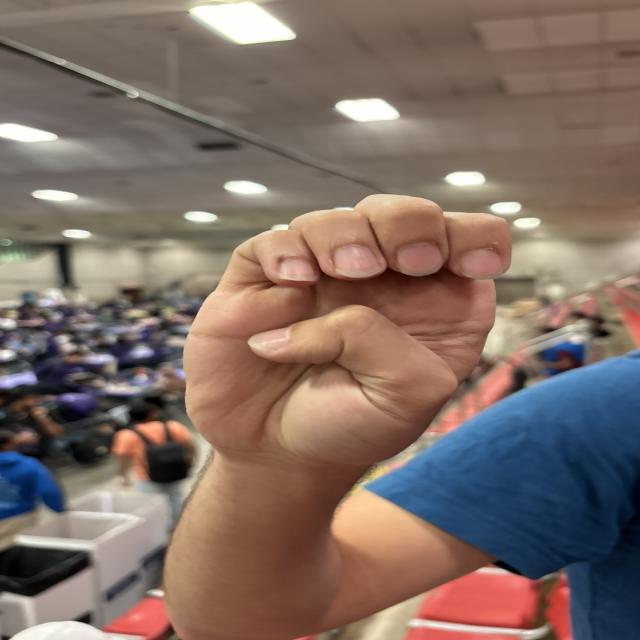E: (147, 186, 533, 466)
